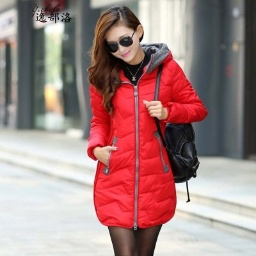face: (90, 4, 146, 68)
